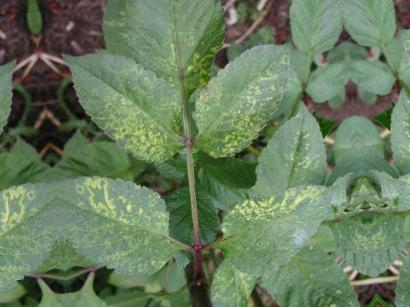Tomato leaf mosaic virus: (61, 38, 189, 174), (56, 162, 187, 285), (182, 38, 305, 160), (200, 177, 345, 279)
